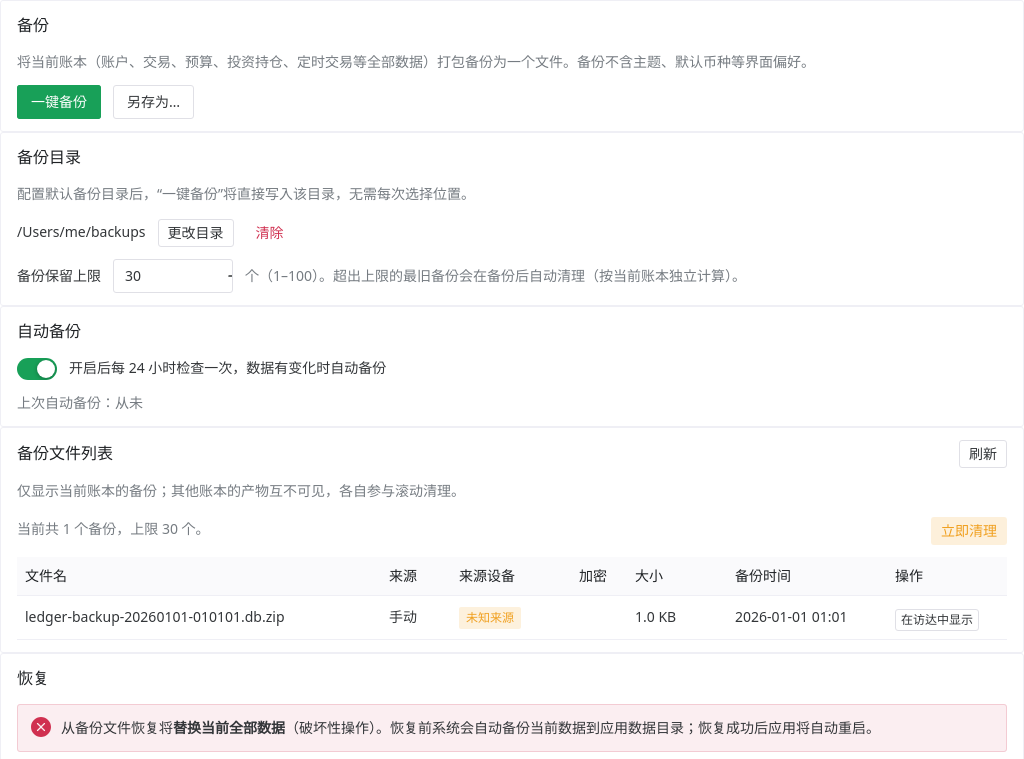
Test: BackupSettings 备份页签重排与危险视觉修正（issue #651 / ADR-0078 决策 4） › 手动刷新按钮重拉备份列表：文件管理器手动增删后可使列表与磁盘一致（issue #651）
The width and height of the screenshot is (1024, 759).
Click the button "刷新" at (983, 454), box [959,440,1007,468]
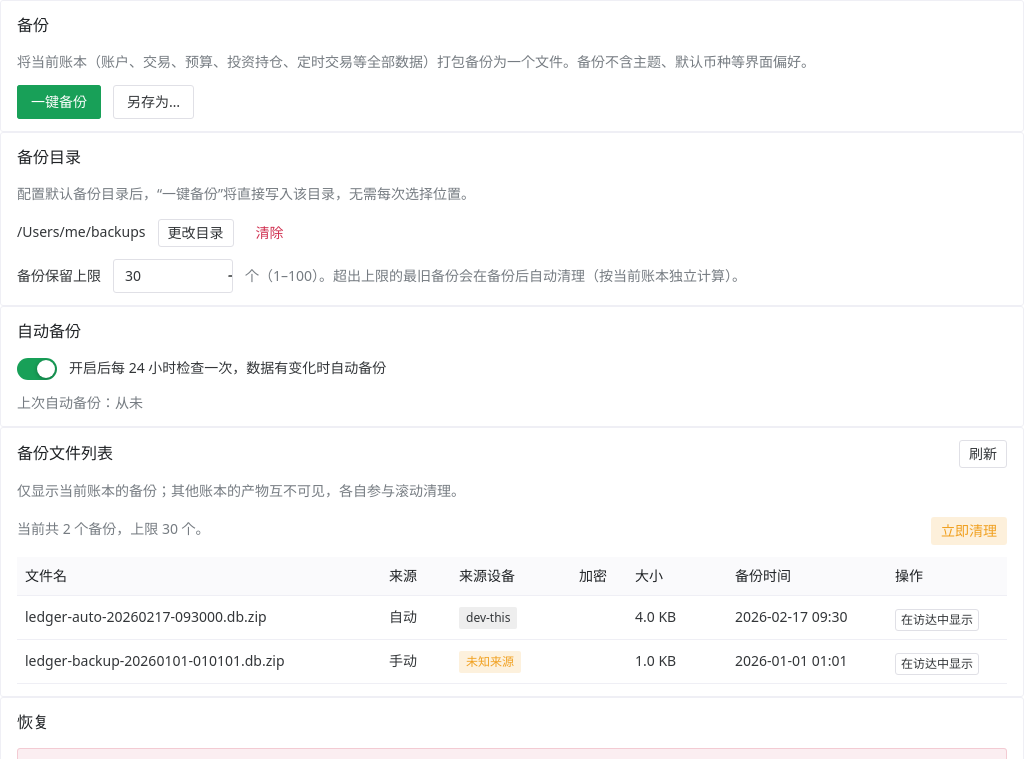
Expected: the text "当前共 2 个备份" is shown, [17,519,210,538]
Expected: the cell "ledger-auto-20260217-093000.db.zip" is shown, [17,596,381,640]
